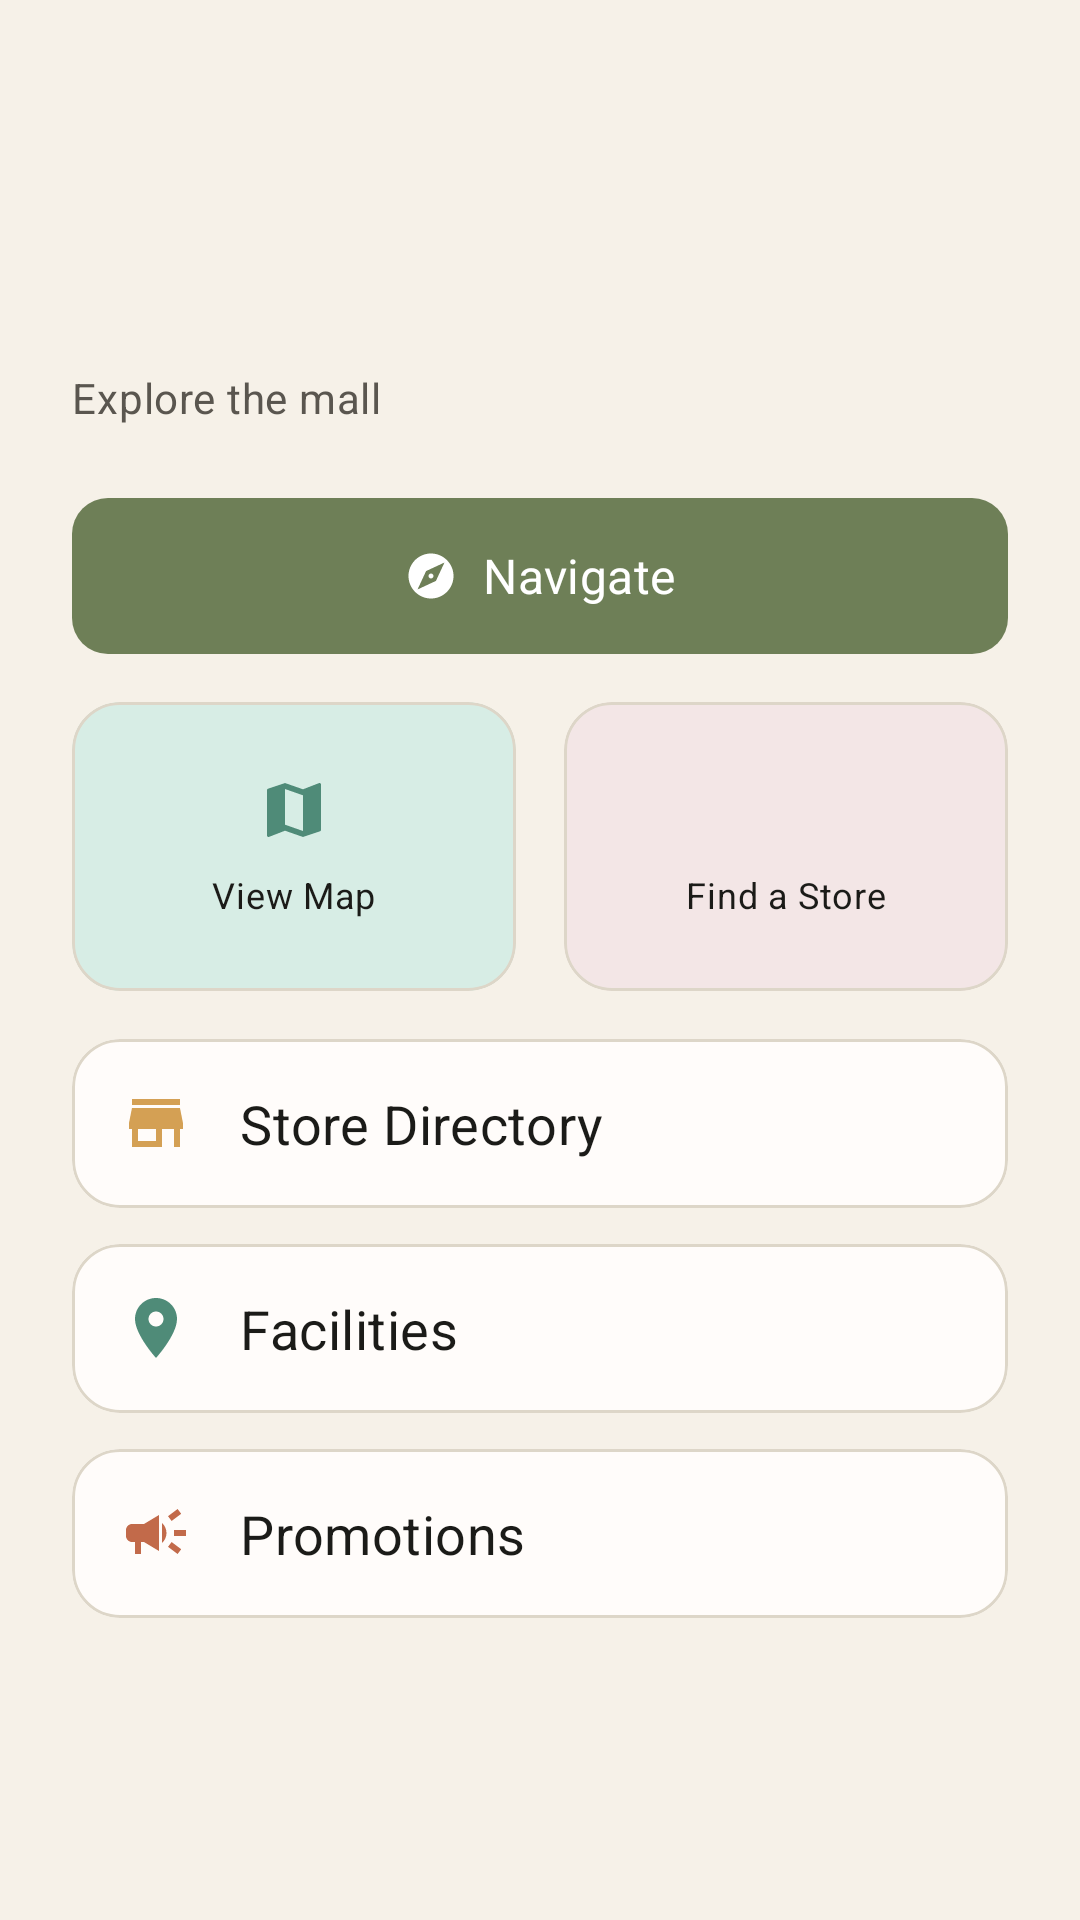

Where to tap for icons on this 1080×1920 app screen, as (x=x, y=y):
campaign: (x=156, y=1531)
place: (x=156, y=1328)
storefront: (x=156, y=1123)
